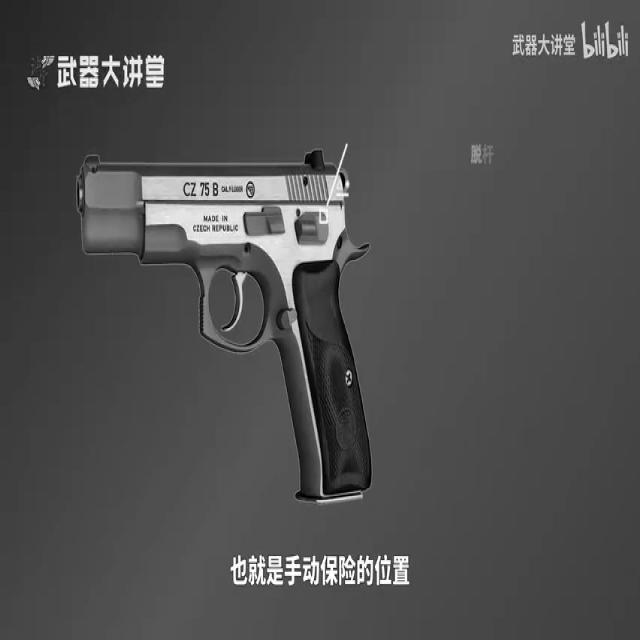Hand-Gun: (72, 143, 378, 521)
